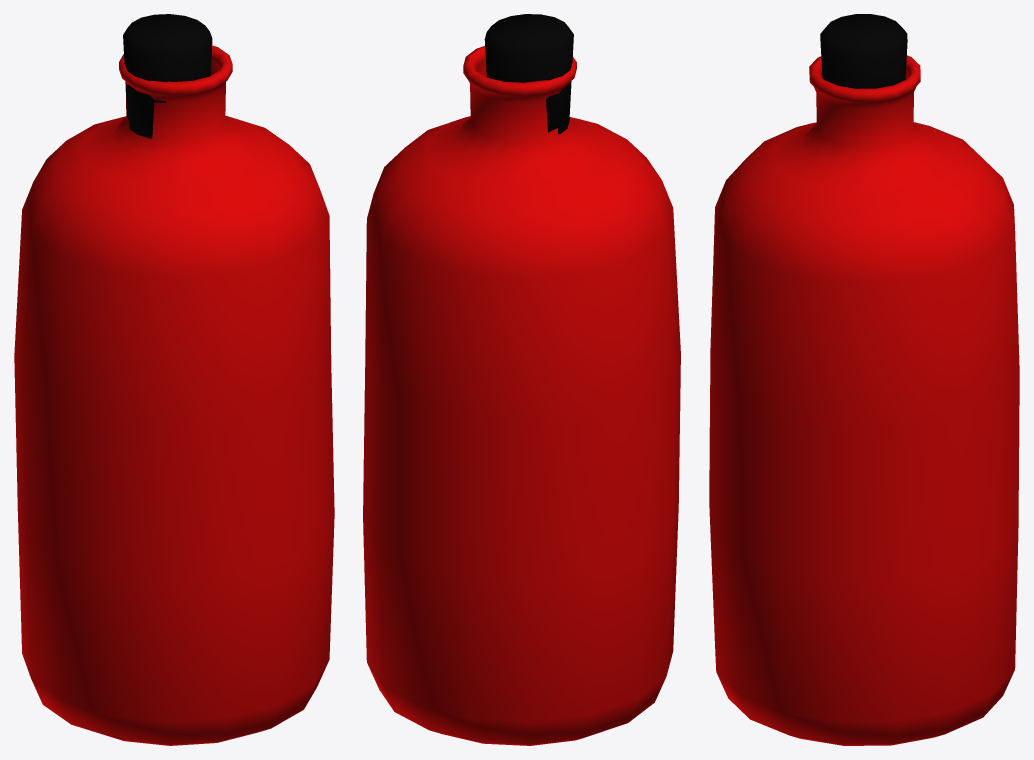
Rendered from Pot_B.fbx.
3 renders of one model, left to right at view 1: azimuth 30°, elevation 25°; view 2: azimuth 150°, elevation 25°; view 3: azimuth 270°, elevation 25°, orthographic.
Visible parts, largest first — view 1: U_Pot_B; view 2: U_Pot_B; view 3: U_Pot_B.
Boxes of the visible parts, <box> form: U_Pot_B: <box>14,14,334,745</box>; U_Pot_B: <box>363,14,680,745</box>; U_Pot_B: <box>709,14,1019,745</box>.
Bounding box in the file's own units: 50.25 × 117 × 49.93.
